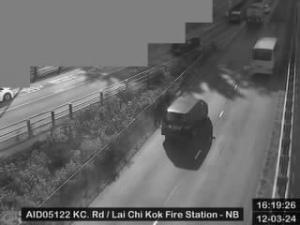bus: (251, 36, 278, 74), (246, 1, 264, 28), (230, 1, 245, 23)
truck: (161, 94, 209, 143), (173, 36, 201, 54)
vehicle: (161, 93, 209, 142), (1, 88, 16, 102), (264, 5, 270, 15)
